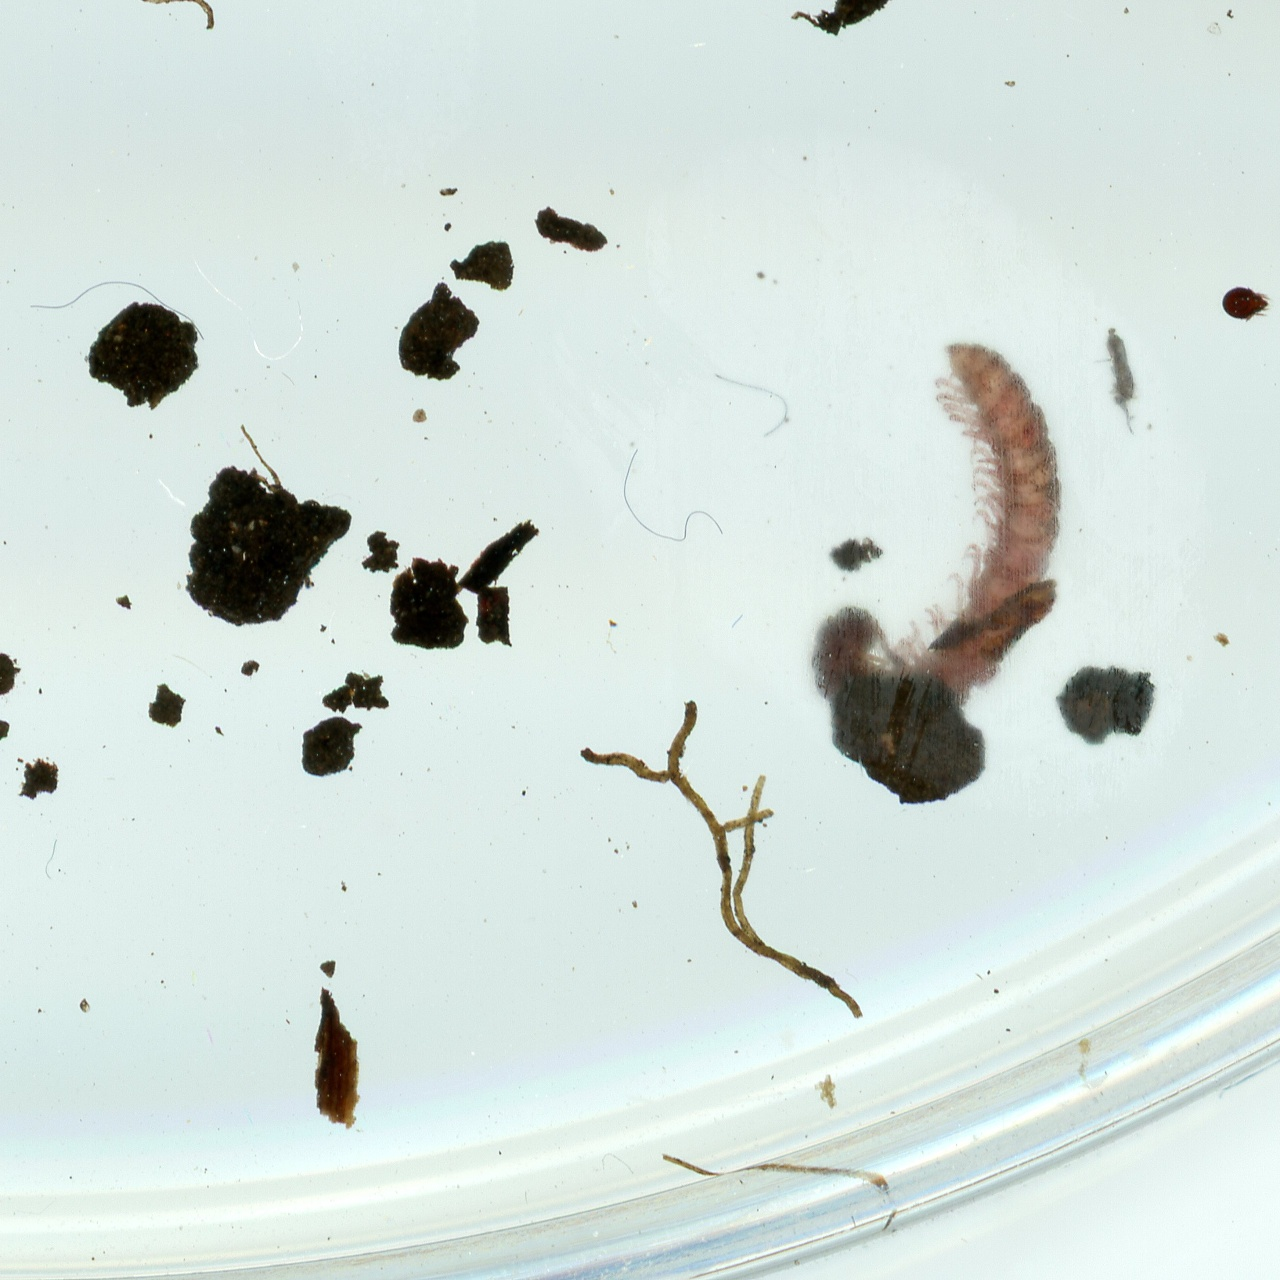arthropod: (871, 334, 1076, 721), (1084, 308, 1142, 437), (1218, 284, 1273, 325)
